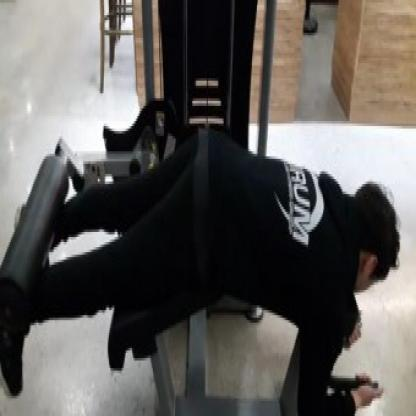reg curl machine: (2, 122, 402, 416)
